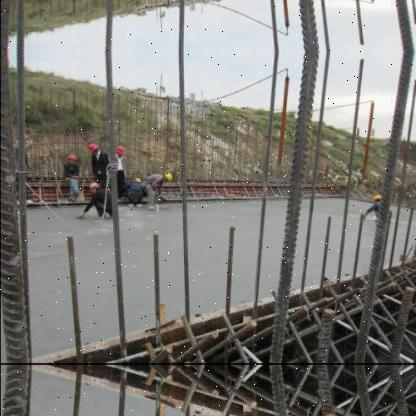helmet: (162, 170, 175, 182), (90, 180, 102, 193), (374, 192, 385, 206), (115, 144, 126, 157), (90, 141, 101, 154), (69, 151, 79, 165)
